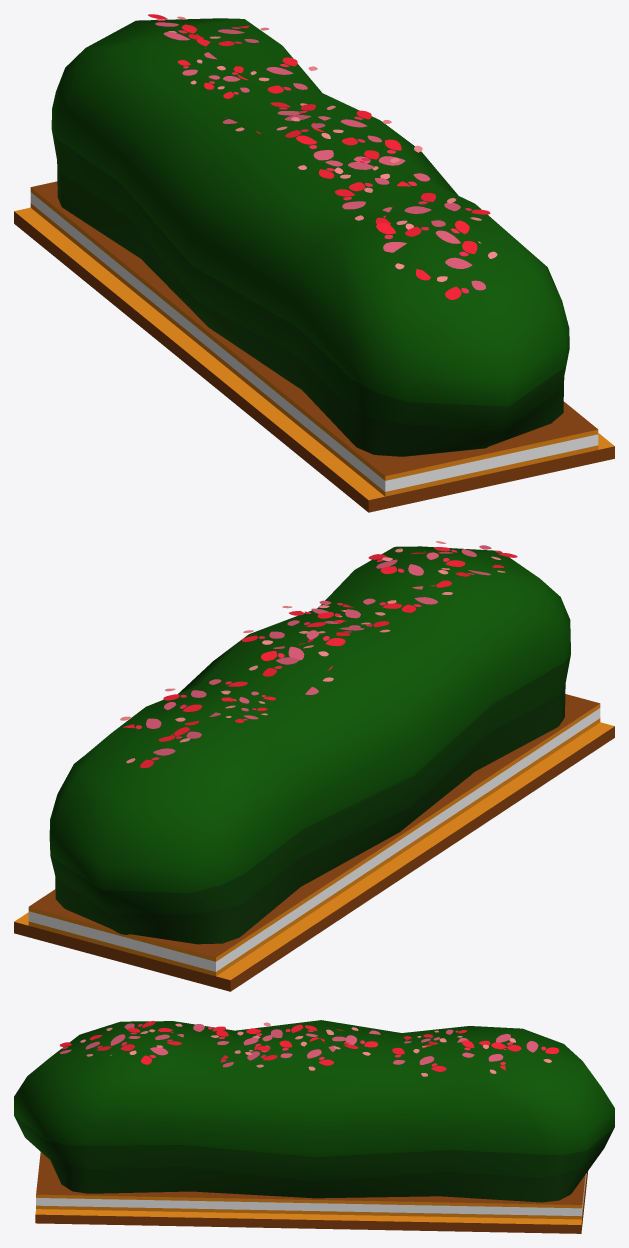
File: Pul2-1.fbx
3 views of the same model, one above another, from view 1: azimuth 30°, elevation 25°; view 2: azimuth 150°, elevation 25°; view 3: azimuth 270°, elevation 25° (orthographic). The views are drawn at different scales.
Parts seen in each view (by area): view 1: Pul201; view 2: Pul201; view 3: Pul201.
Boxes of the visible parts, x1=… form: Pul201: x1=14, y1=14, x2=614, y2=512; Pul201: x1=14, y1=541, x2=614, y2=991; Pul201: x1=14, y1=1020, x2=614, y2=1233.
Size of the model in its own units: 0.5763 by 0.4418 by 1.56.
